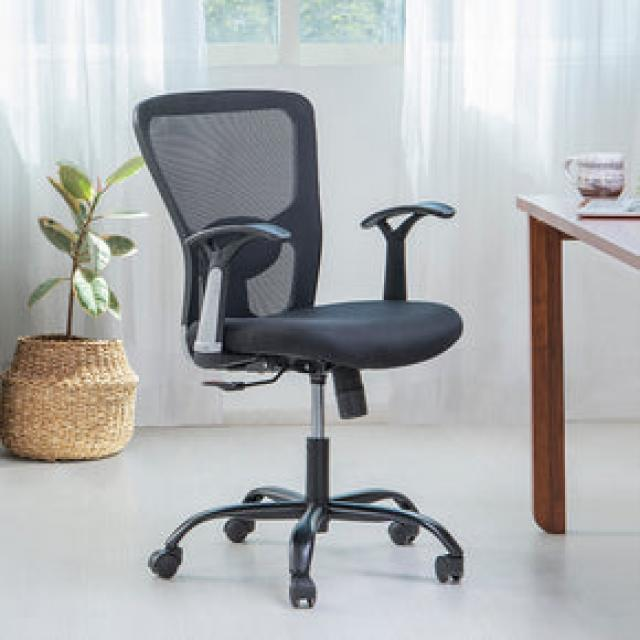chair: (137, 84, 470, 606)
